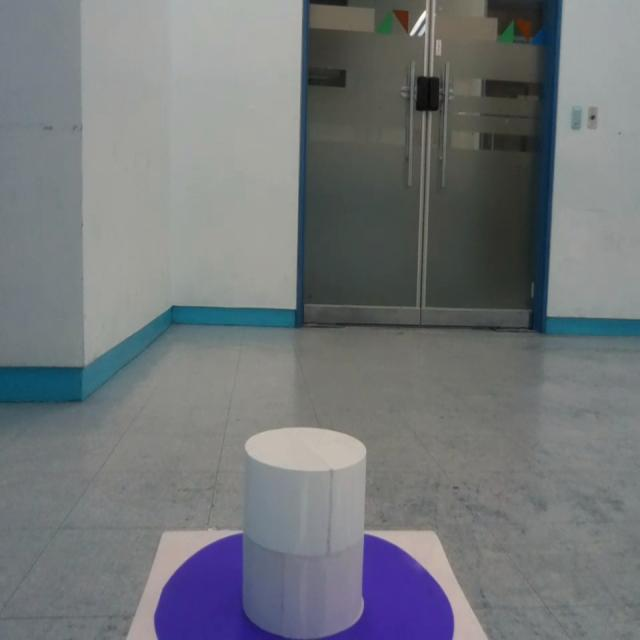cylinder: (239, 427, 369, 638)
